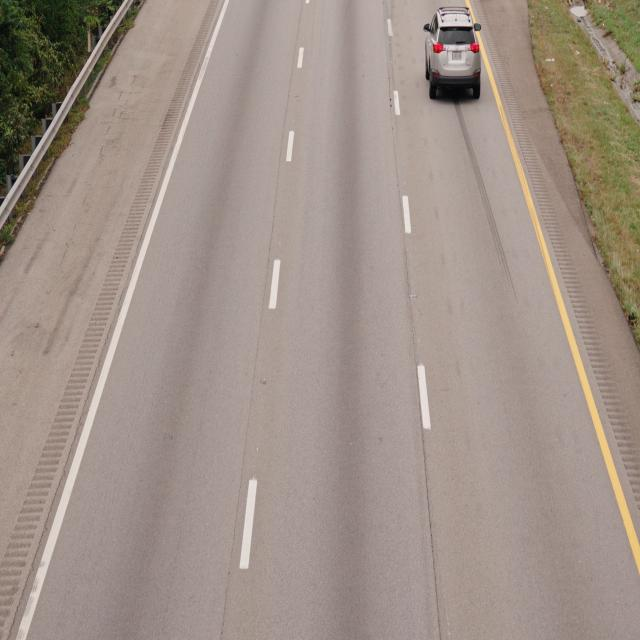Car: (422, 3, 483, 113)
